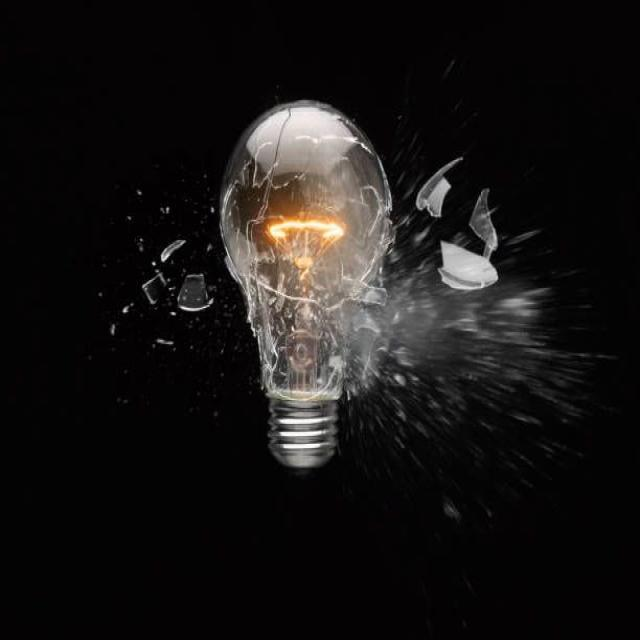electronic: (218, 98, 396, 470)
